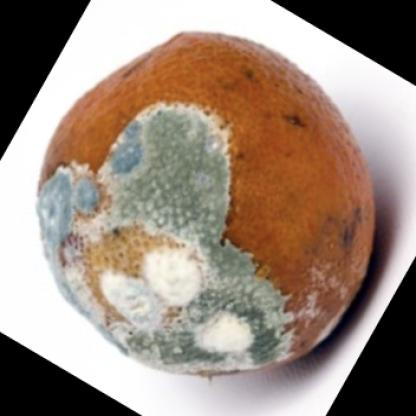rotten: (37, 33, 377, 380)
